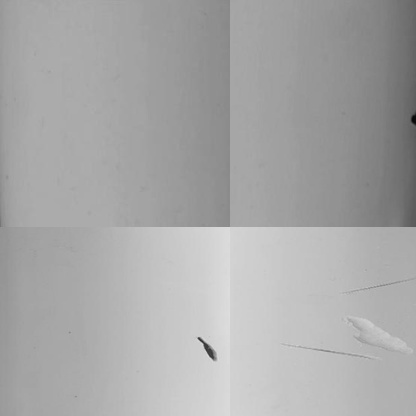kongdong: (194, 337, 218, 364)
sunshang: (340, 309, 410, 358), (277, 341, 371, 364), (341, 273, 411, 291)
